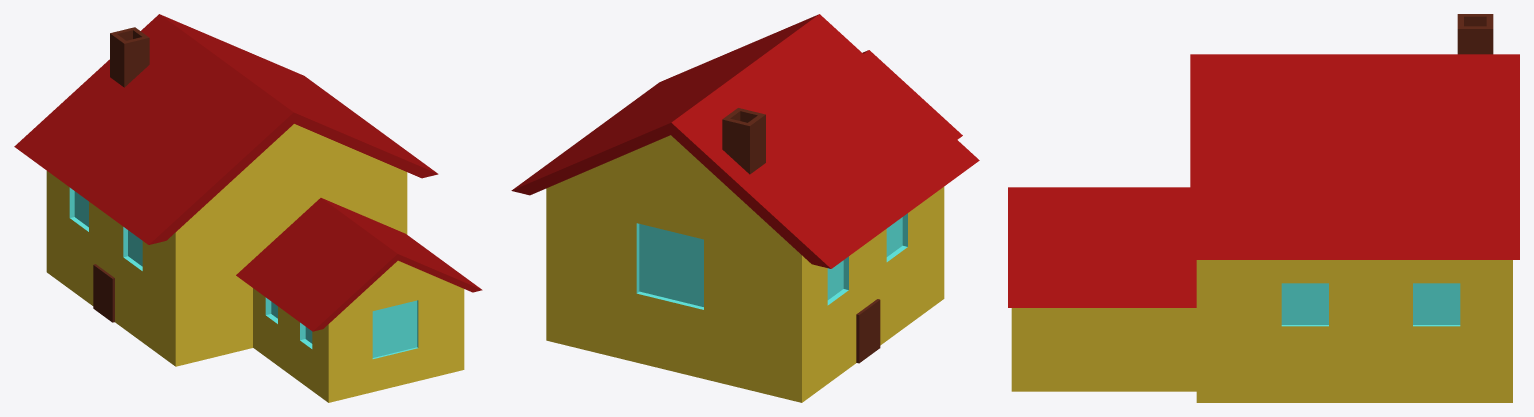
File: lowploybuilding9.FBX
The picture shows the model from 3 angles, left to right: view 1: azimuth 30°, elevation 25°; view 2: azimuth 150°, elevation 25°; view 3: azimuth 270°, elevation 25°; orthographic projection. The views are drawn at different scales.
Parts seen in each view (by area): view 1: Line001, Box001, Box002, Line002, Box012, Box005; view 2: Box001, Line001, Box012, Box005, Line002; view 3: Line001, Box001, Line002, Box002, Box012.
Boxes of the visible parts, box(x1,y1,x2,y2) form: Line001: box(14, 14, 438, 244); Box001: box(46, 124, 407, 366); Box002: box(253, 260, 464, 402); Line002: box(236, 198, 482, 331); Box012: box(110, 27, 149, 87); Box005: box(93, 264, 114, 322); Box001: box(546, 135, 944, 402); Line001: box(511, 14, 979, 268); Box012: box(722, 108, 765, 174); Box005: box(856, 299, 880, 363); Line002: box(862, 50, 962, 139); Line001: box(1190, 54, 1519, 259); Box001: box(1196, 260, 1512, 402); Line002: box(1008, 187, 1196, 307); Box002: box(1011, 308, 1196, 391); Box012: box(1457, 14, 1493, 54).
Bounding box in the file's own units: 341 × 260 × 426.
